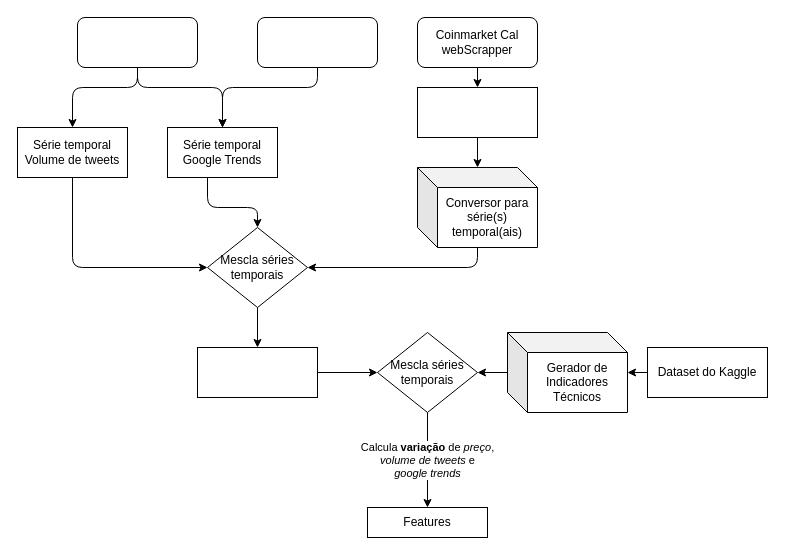
Image size: 785x555. Some labels were removed from this diagram. Each missing label, with the centre of its shape:
"Bitinfochart webScrapper" goes at (137,42).
"Calendário de eventos da criptomoeda" goes at (477,112).
"dataset dados sociais" goes at (257,372).
"Google Trends API" goes at (317,42).
